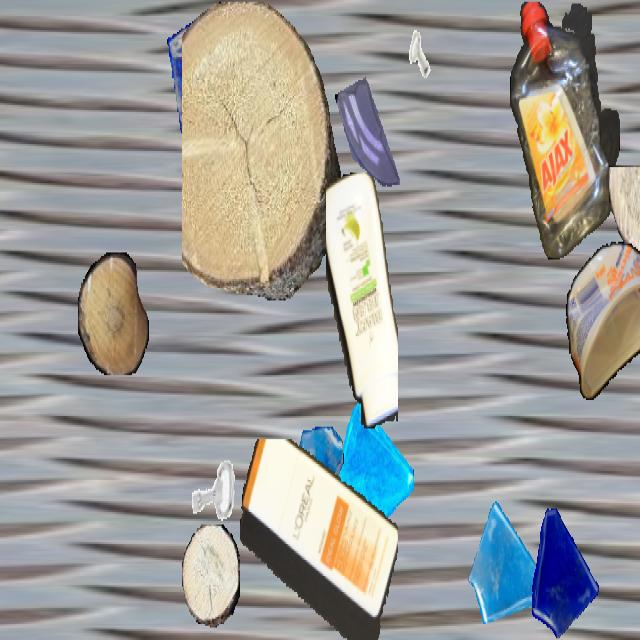glass: (320, 400, 414, 567), (167, 2, 259, 165), (468, 496, 548, 638), (523, 500, 601, 638), (334, 68, 404, 192), (284, 427, 344, 533)
metal: (239, 165, 297, 268), (186, 441, 242, 540), (401, 21, 439, 89)
plastic: (240, 439, 398, 638), (509, 2, 619, 258), (326, 172, 398, 428), (566, 242, 640, 402)
wood: (182, 2, 340, 300), (78, 252, 148, 374), (182, 524, 240, 628), (609, 166, 640, 262)
